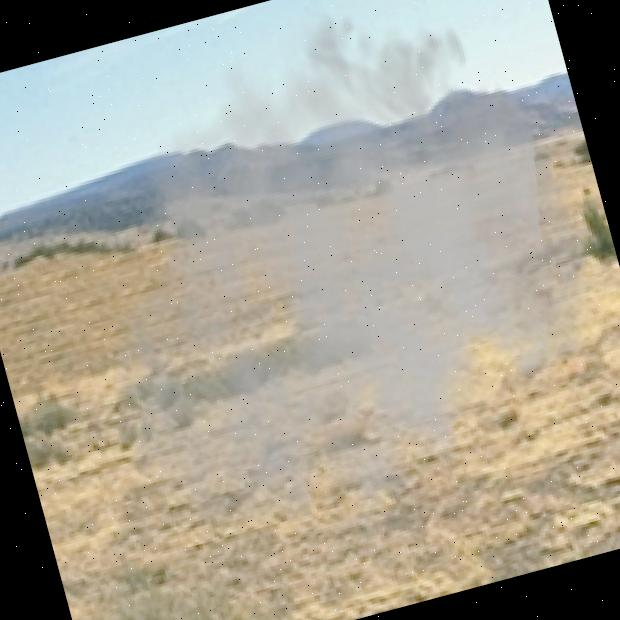smoke: (22, 0, 620, 620)
